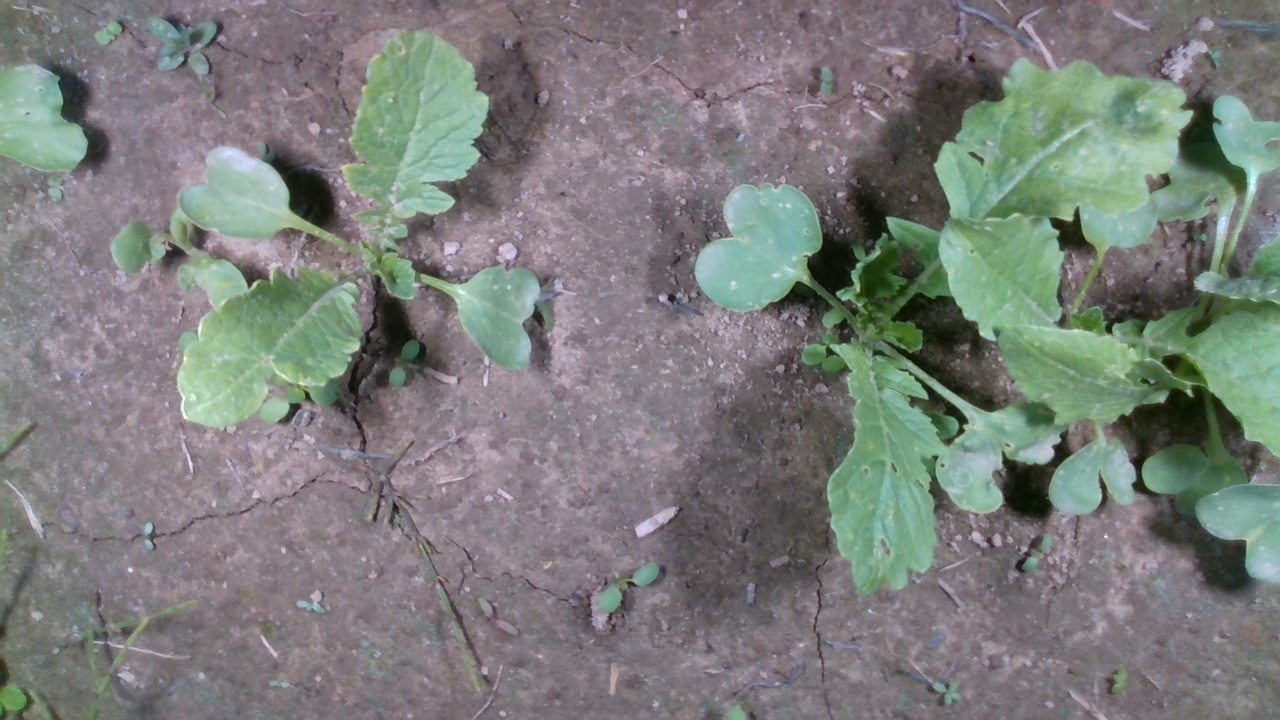weed: (597, 558, 661, 617), (476, 595, 520, 637), (387, 338, 420, 390), (1021, 532, 1054, 574), (929, 678, 962, 706), (1104, 664, 1130, 698), (94, 19, 123, 46), (46, 175, 64, 204), (294, 600, 327, 615), (819, 65, 833, 99)
